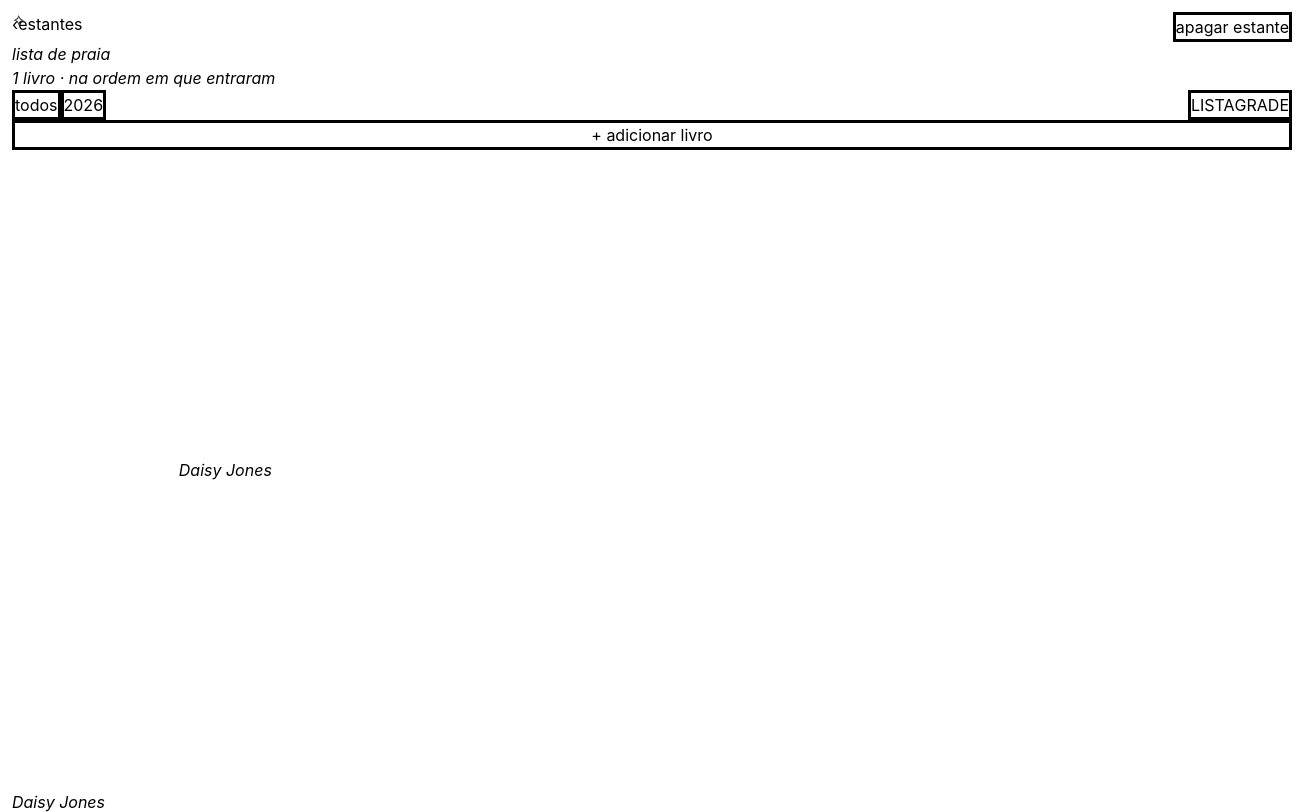
Test case: Estantes › adiciona um livro direto na estante própria
Step 1. Click the button "+ adicionar livro" → [652, 135], box top-left (12, 120), bottom-right (1292, 150)
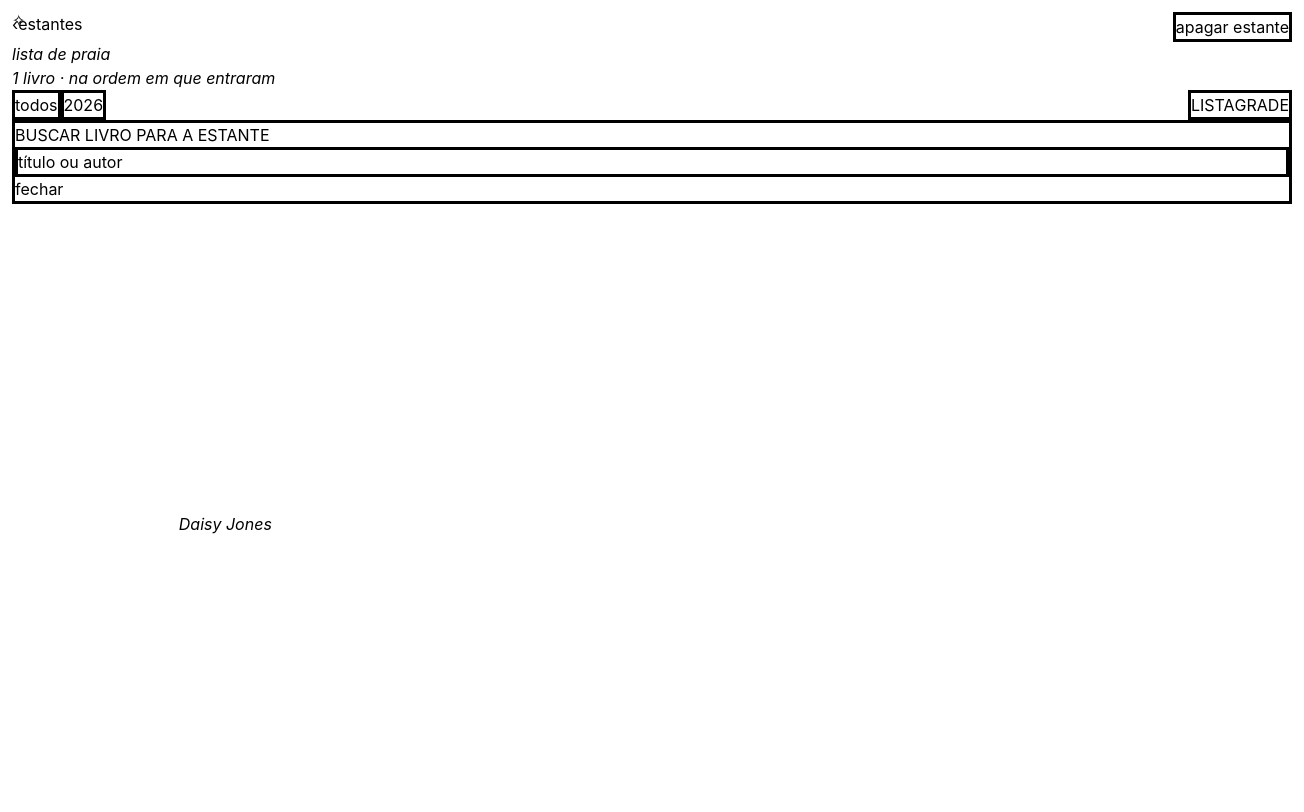
Step 2. Type "torto" into the dropdown labelled "Buscar livro para a estante" → [652, 162], box top-left (15, 147), bottom-right (1289, 177)
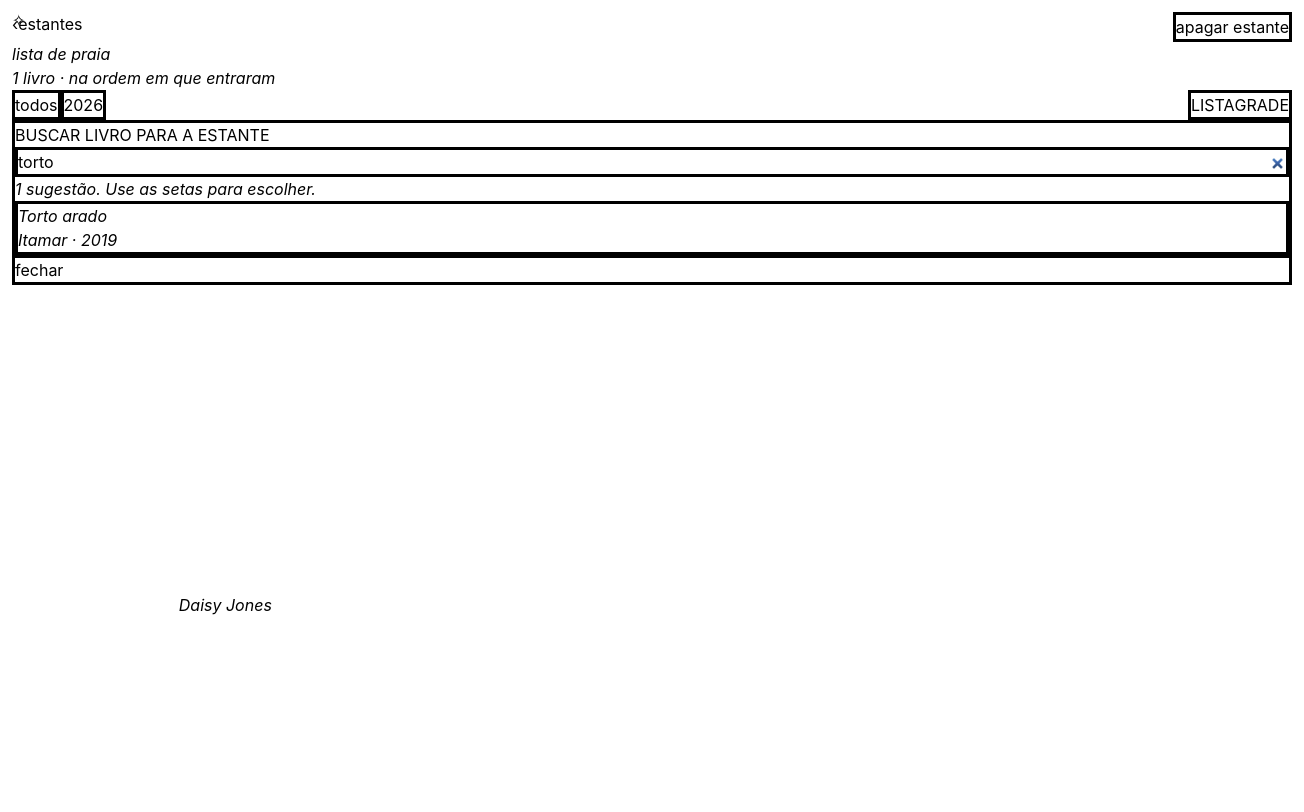
Step 3. Click the option "Torto arado Itamar · 2019" → [62, 216], box top-left (18, 204), bottom-right (1286, 255)
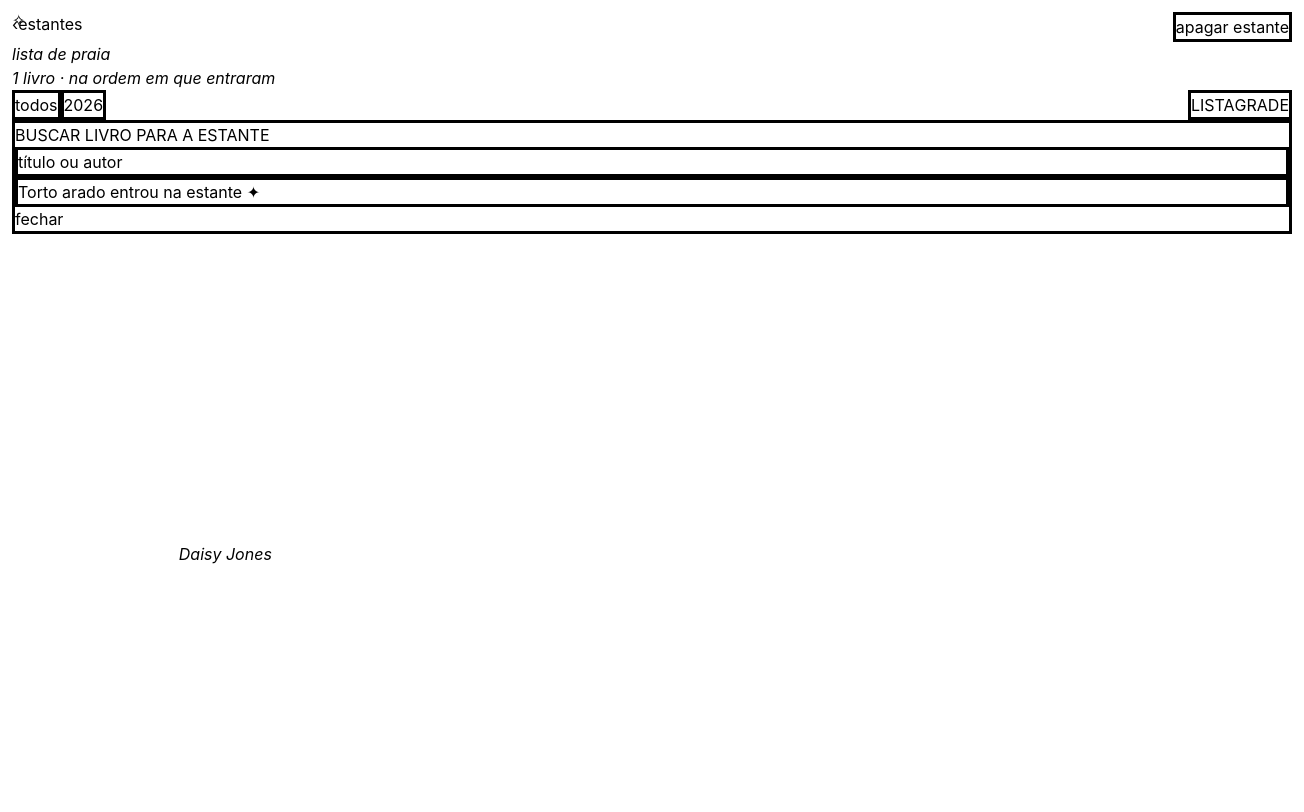
Check: the text "Torto arado entrou na estante ✦" is shown, box top-left (15, 177), bottom-right (1289, 207)
